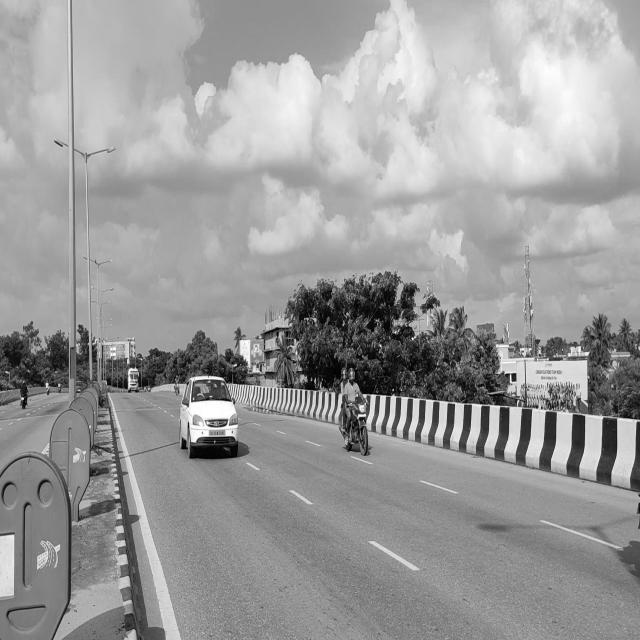bike: (337, 397, 371, 458)
car: (178, 372, 240, 462)
